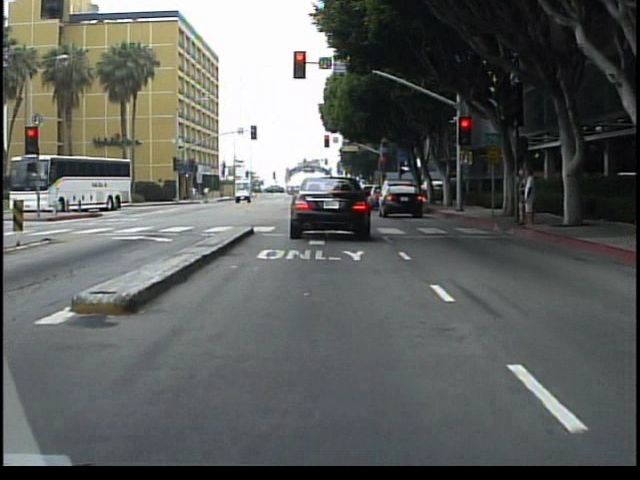person: (518, 168, 539, 232)
